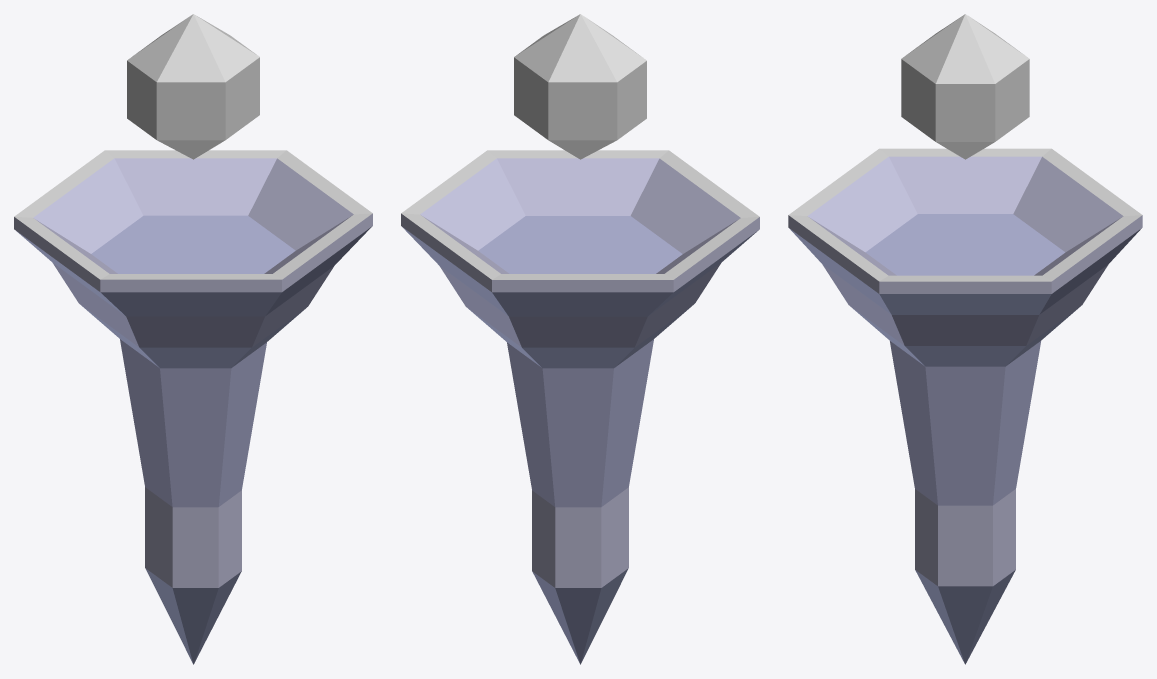
The model's file is Prop_Lamp_Float.fbx.
The picture shows the model from 3 angles, left to right: view 1: azimuth 30°, elevation 25°; view 2: azimuth 150°, elevation 25°; view 3: azimuth 270°, elevation 25°; orthographic projection.
Visible parts, largest first — view 1: Lamp_Float; view 2: Lamp_Float; view 3: Lamp_Float.
Part boxes in pixels (bbox=[...]): Lamp_Float: bbox=[14, 14, 372, 664]; Lamp_Float: bbox=[401, 14, 759, 664]; Lamp_Float: bbox=[788, 14, 1142, 664].
Bounding box in the file's own units: 152 × 346 × 171.
